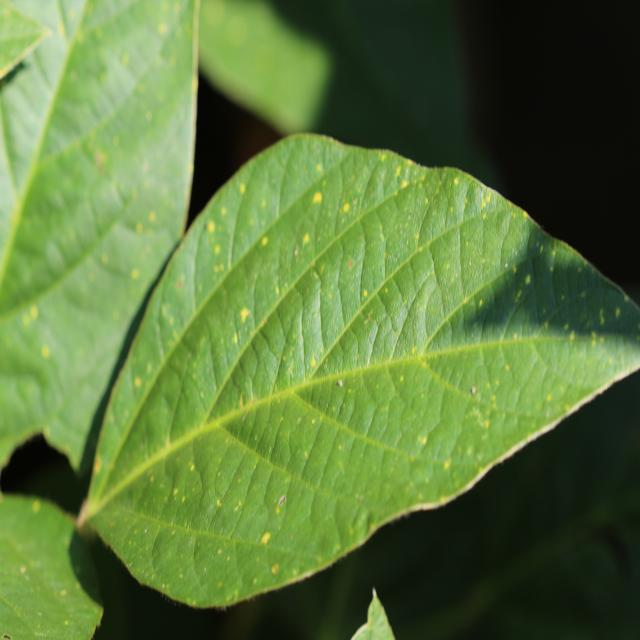Soybean: (0, 0, 640, 640)
downey_mildew: (5, 117, 174, 320), (4, 242, 151, 463), (99, 291, 244, 507), (219, 222, 367, 424), (213, 338, 351, 530), (439, 322, 629, 457), (47, 1, 190, 176), (321, 356, 481, 497), (102, 503, 313, 599), (353, 196, 455, 365), (411, 206, 529, 349), (526, 243, 637, 377), (217, 216, 332, 313), (2, 298, 71, 422), (0, 57, 59, 201), (431, 337, 527, 420), (430, 332, 620, 372), (0, 90, 27, 328), (3, 501, 75, 585), (406, 164, 518, 215), (253, 131, 350, 174), (416, 175, 465, 253), (0, 578, 55, 638), (54, 1, 89, 43), (1, 57, 32, 96), (223, 14, 250, 46)
